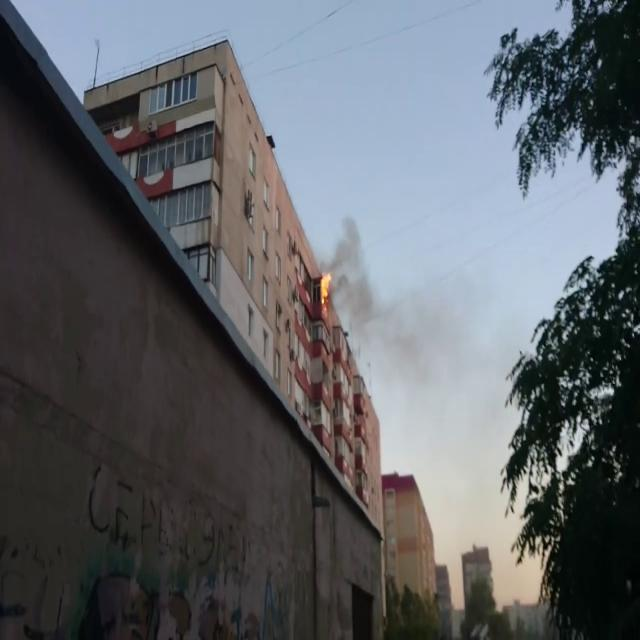Fire: (318, 264, 334, 318)
Smoke: (322, 210, 382, 336)
